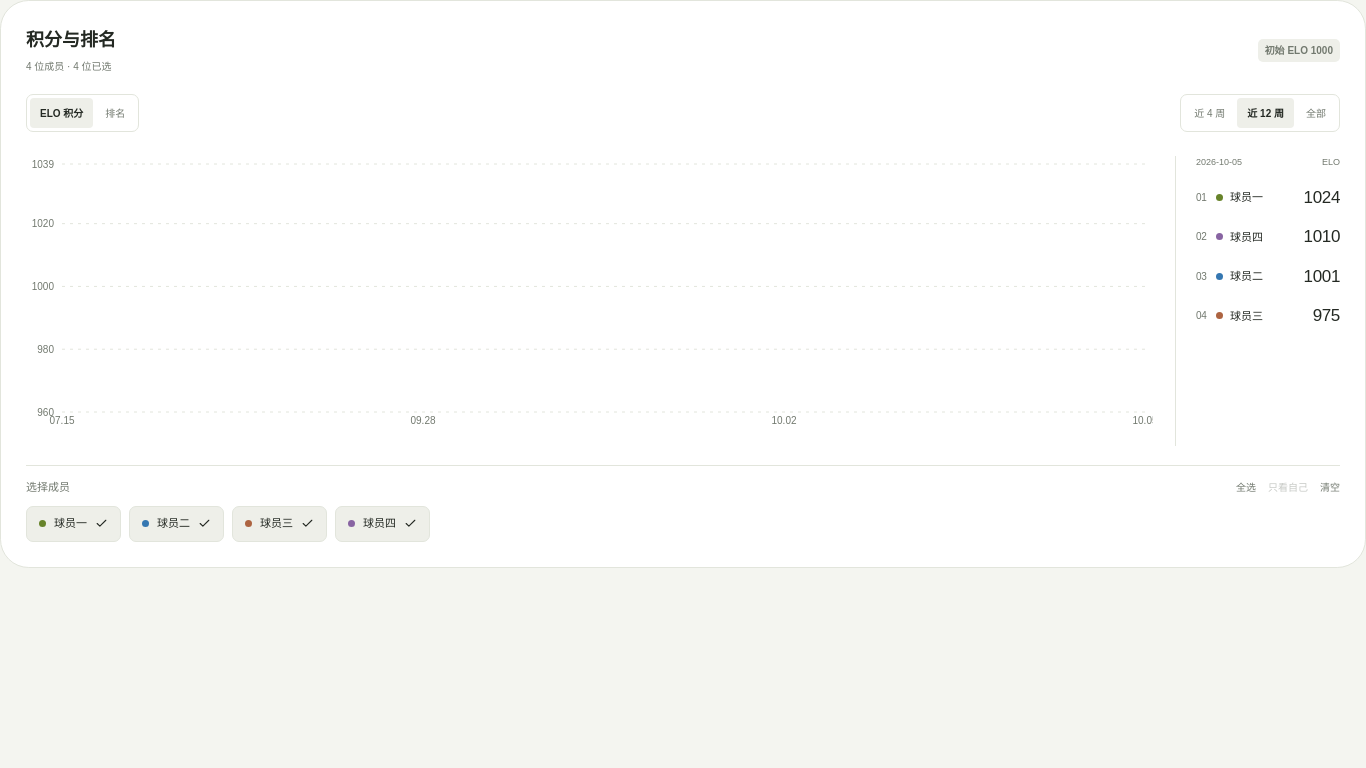
Scenario: Legacy 趋势(全量页) › 删除日期按钮行与底部整行提示,保留读数栏与周期/模式切换
Expected: the element named "全员趋势周期" is shown, [1180, 94, 1340, 132]
Expected: the element named "全员趋势类型" is shown, [26, 94, 139, 132]
What coordinates should you click on to do the following:
click the button "全部"
I would click on:
 (1316, 113)
Its box is [1296, 98, 1336, 128].
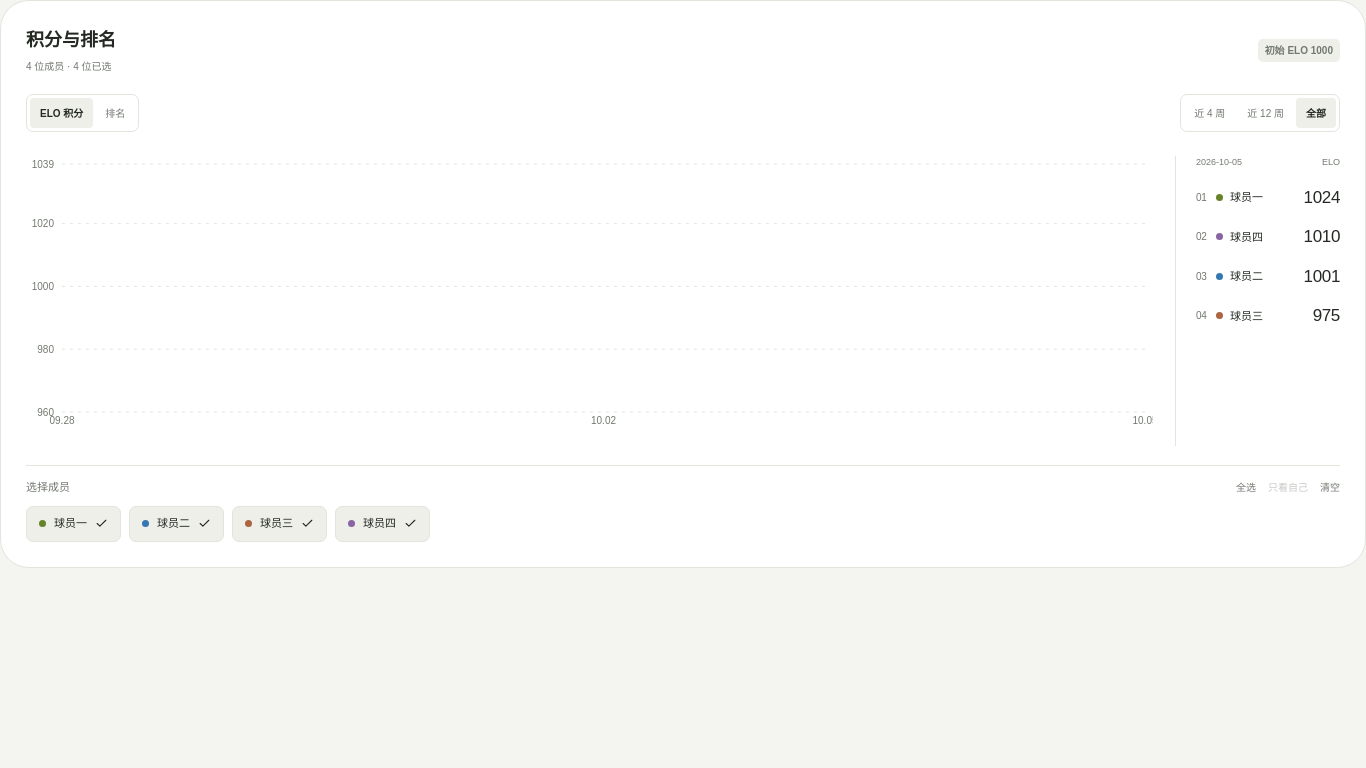
Expected: the text "2026-10-05" is shown, [1196, 156, 1242, 170]
What coordinates should you click on to do the following:
click the button "近 4 周"
I would click on:
 (1210, 113)
Its box is [1184, 98, 1235, 128].
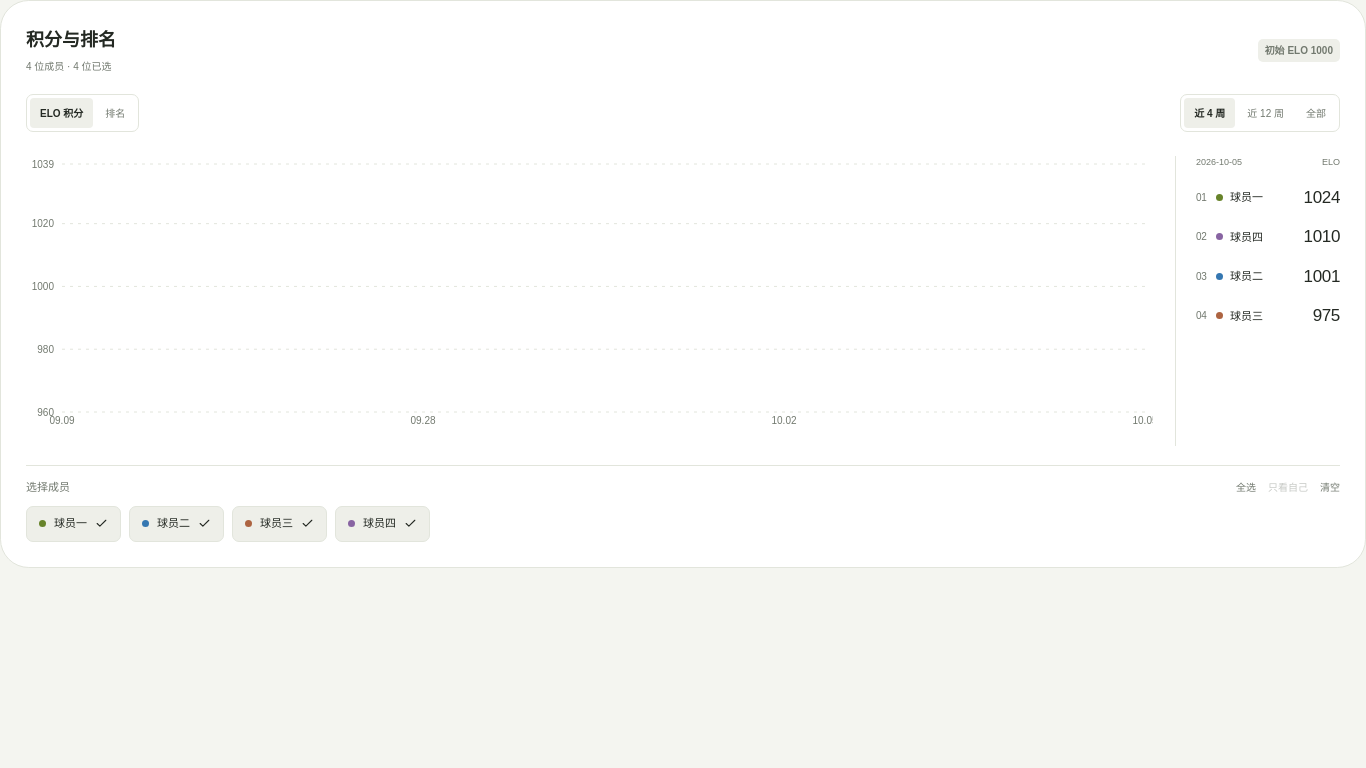
Expected: the text "2026-10-05" is shown, [1196, 156, 1242, 170]
What coordinates should you click on to do the following:
click the button "排名"
I would click on:
 (115, 113)
Its box is [95, 98, 135, 128].
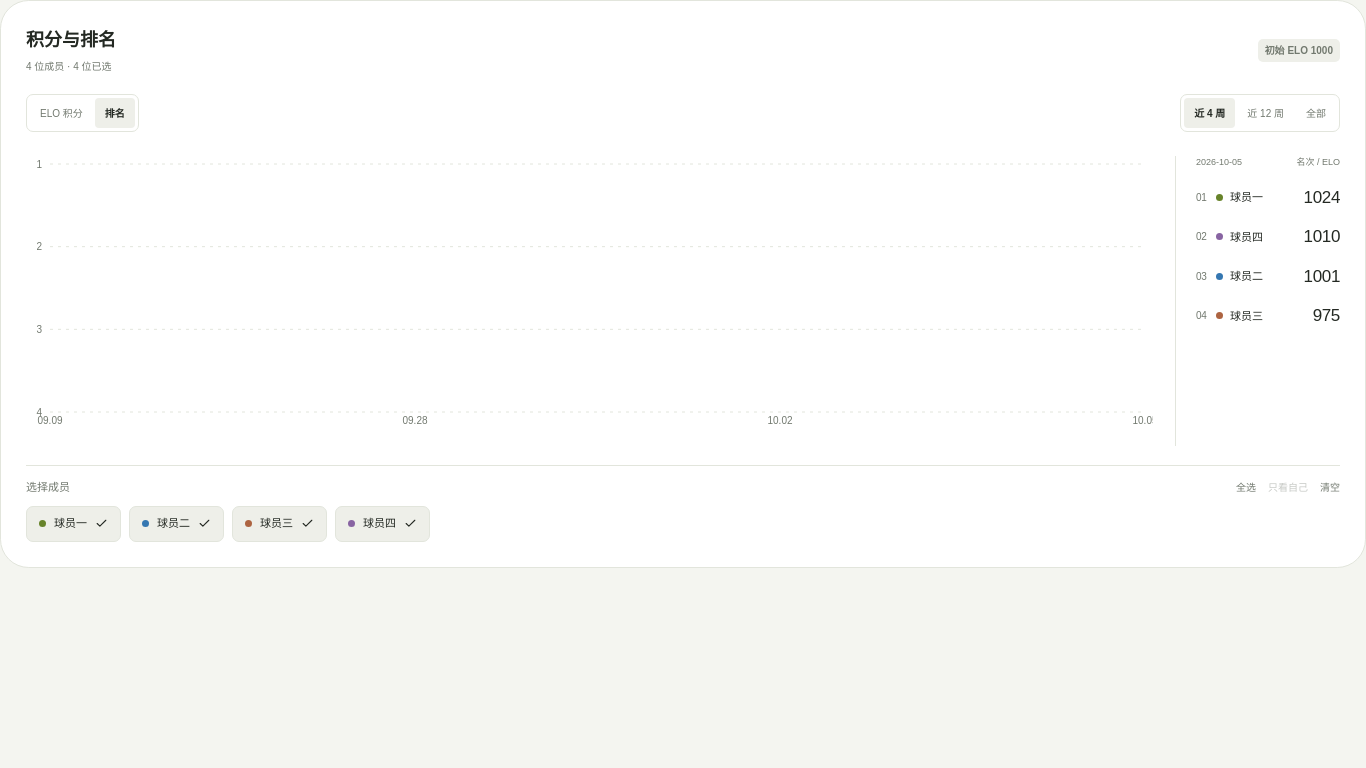
Result: the text "名次 / ELO" is shown at [1296, 156, 1340, 170]
